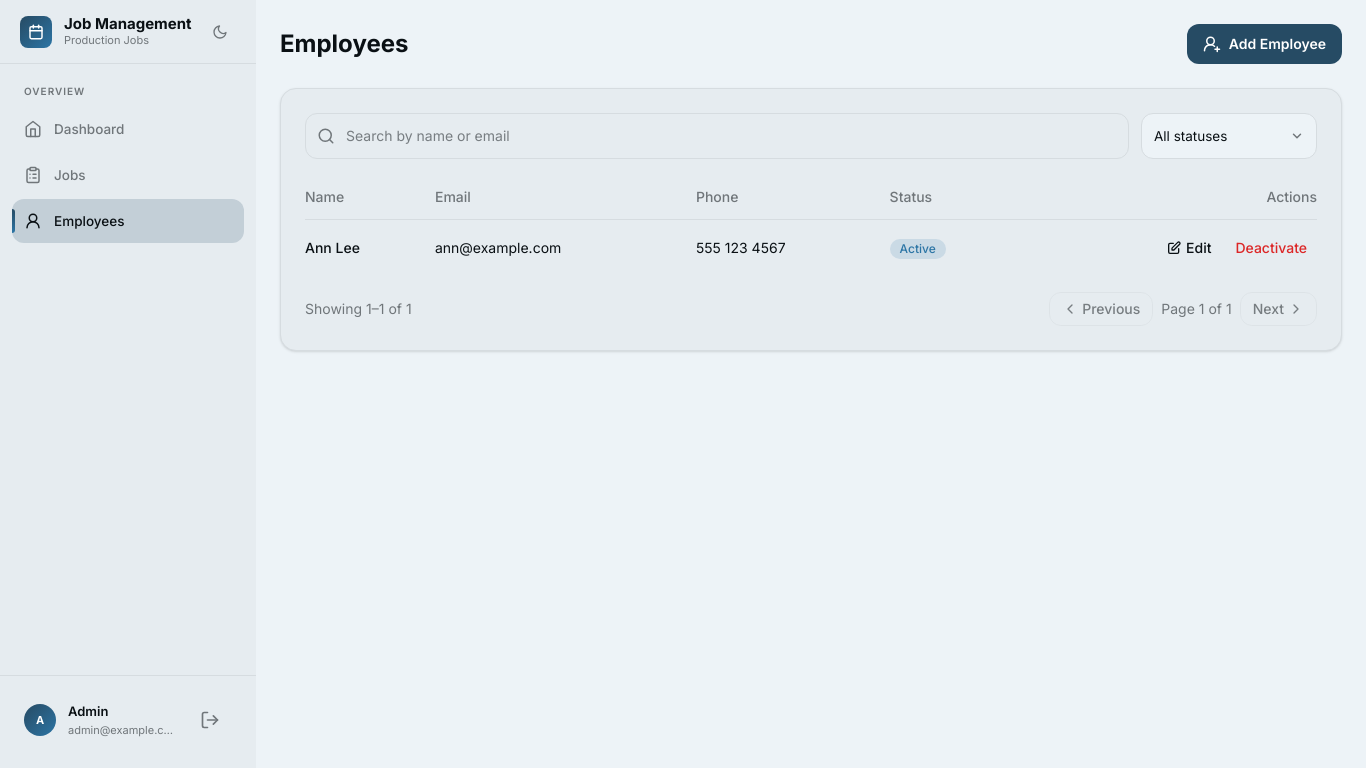
add and edit employee › edits an employee with the form pre-filled
Click the button with aria-label "Edit Ann Lee" at (1189, 248), box [1156,232,1222,264]
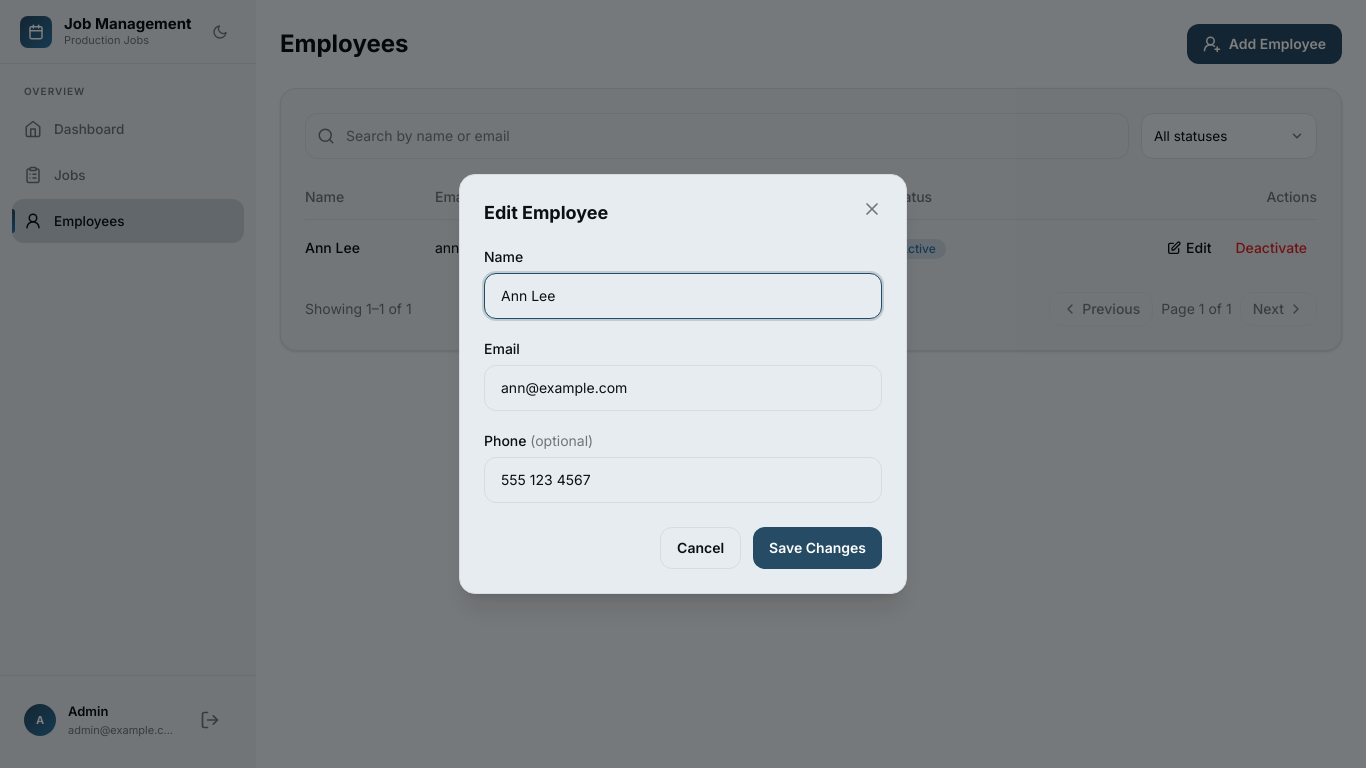
Check: the field labelled "Name" holds "Ann Lee"
Check: the field labelled "Email" holds "ann@example.com", box [484,365,882,411]
Check: the field labelled "Phone (optional)" holds "555 123 4567", box [484,457,882,503]
Replace the text in the field labelled "Name" with "Ann Smith" at (683, 296), box [484,273,882,319]
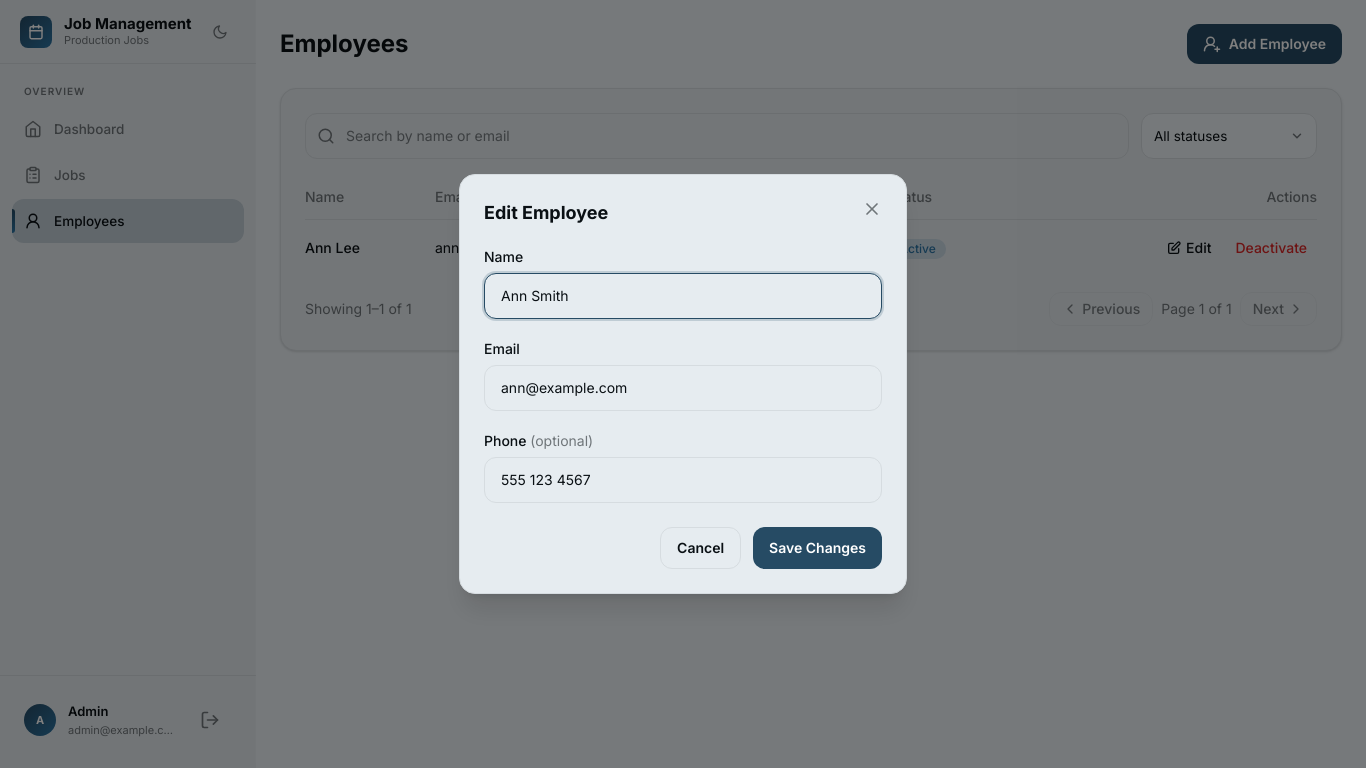
Click the button "Save Changes" at (818, 548), box [753,527,882,569]
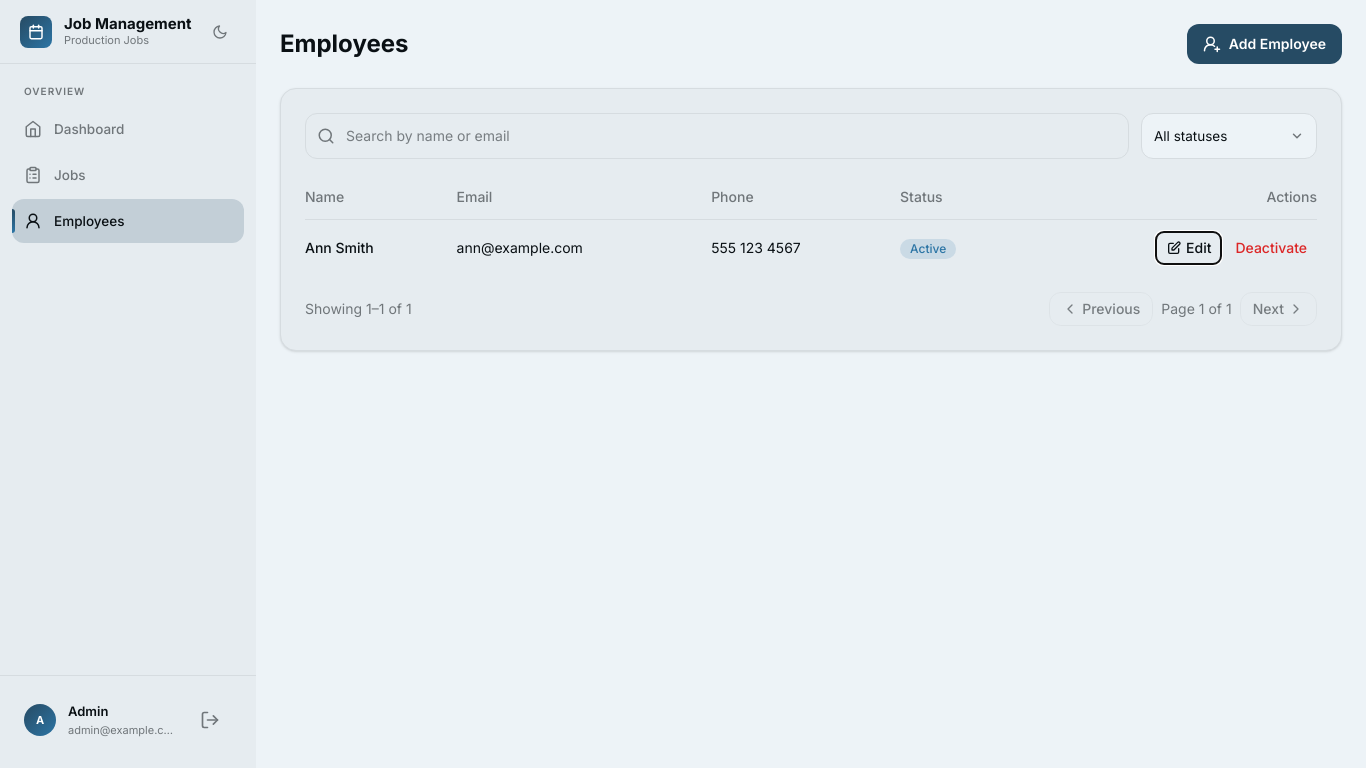
Check: the text "Ann Smith" is shown, box [305,220,456,276]
Check: the dialog is gone
